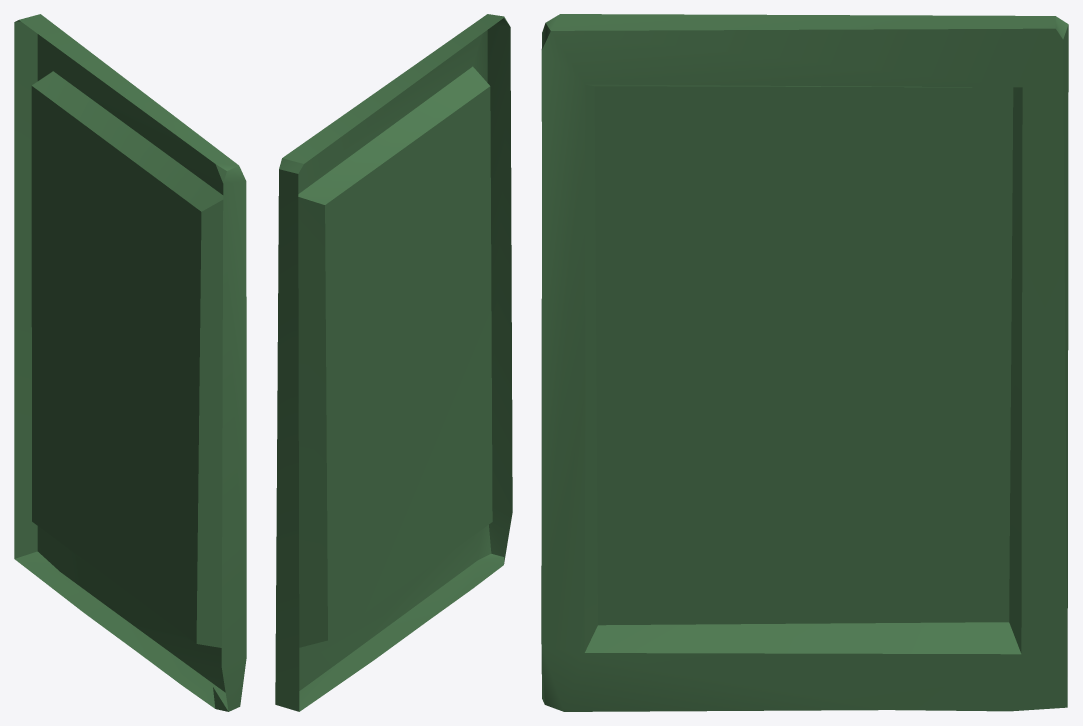
The model's file is SM_ghettowindow.fbx.
The picture shows the model from 3 angles, left to right: view 1: azimuth 30°, elevation 25°; view 2: azimuth 150°, elevation 25°; view 3: azimuth 270°, elevation 25°; orthographic projection. The views are drawn at different scales.
Visible parts, largest first — view 1: SM_ghettowindow; view 2: SM_ghettowindow; view 3: SM_ghettowindow.
Part boxes in pixels (x1=…): SM_ghettowindow: x1=14, y1=14, x2=246, y2=711; SM_ghettowindow: x1=275, y1=14, x2=512, y2=711; SM_ghettowindow: x1=541, y1=14, x2=1068, y2=711.
Bounding box in the file's own units: 6.3 × 113 × 78.82.
